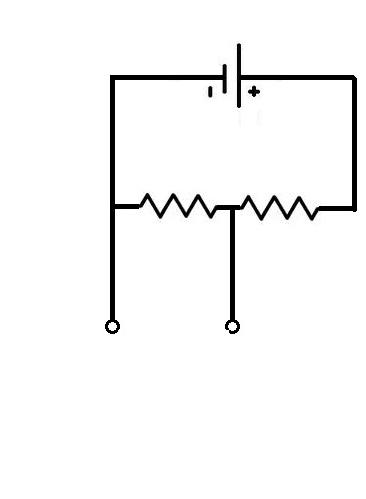resistor: (119, 180, 227, 229), (236, 186, 336, 233)
